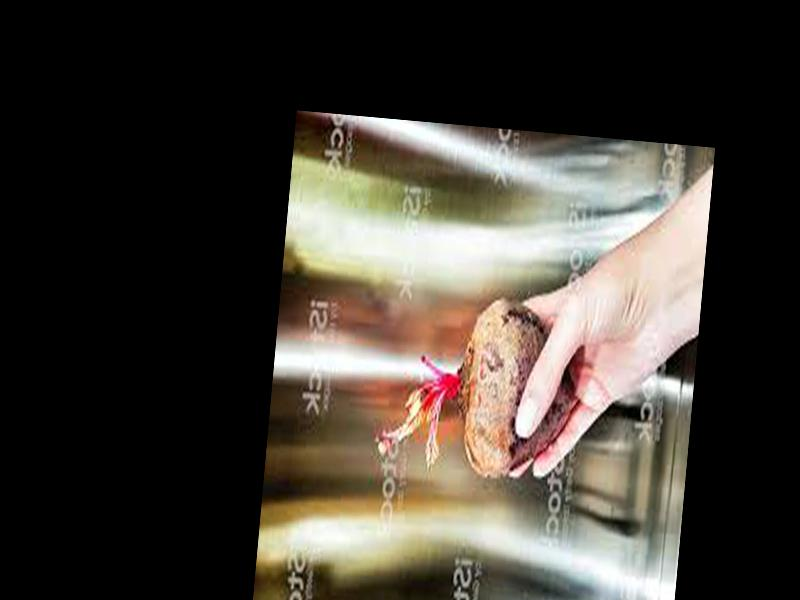Beet: (378, 291, 582, 484)
